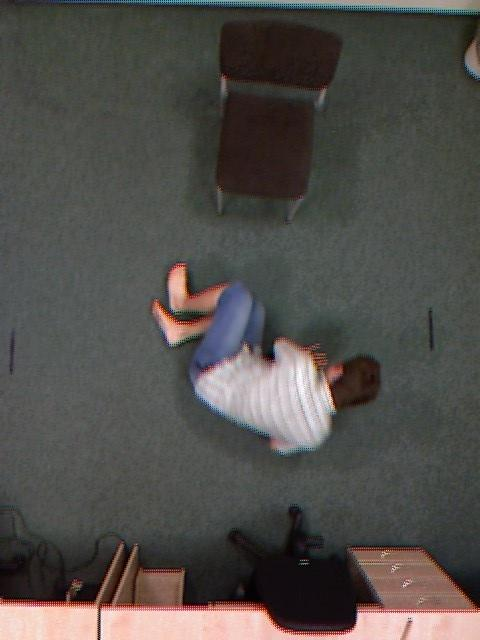fall: (193, 201, 345, 522)
